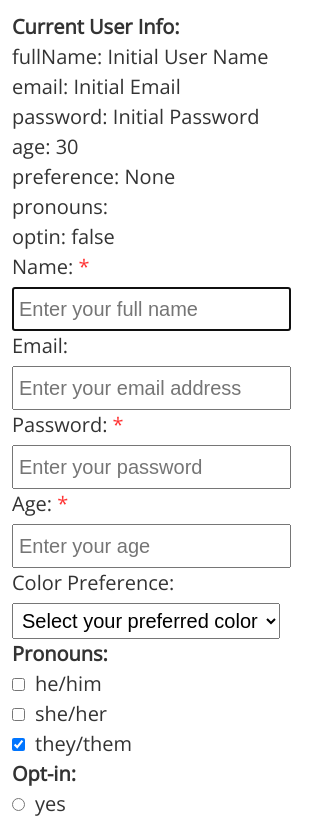
form tests › shows error when age is not a valid number
Type "-3.1415" into the number field with placeholder "Enter your age" at [152, 546], box [12,524,291,568]
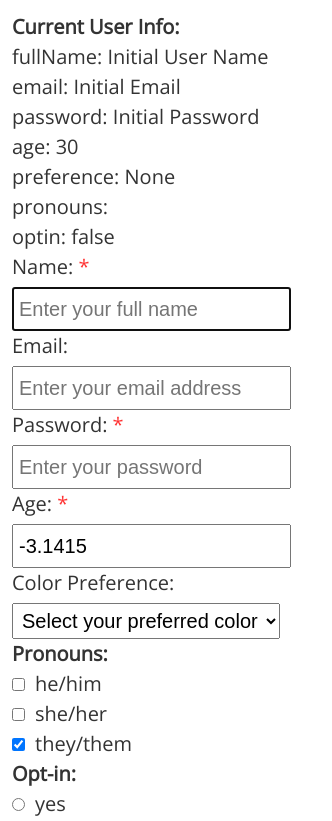
Leave the number field with placeholder "Enter your age", box [12,524,291,568]
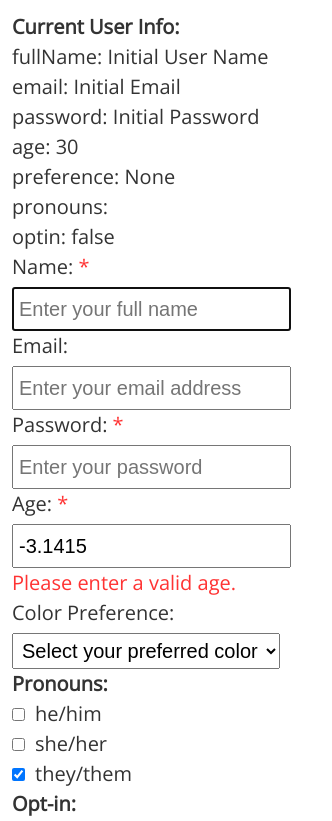
Result: the text "Please enter a valid age." is shown at [12,569,236,596]
